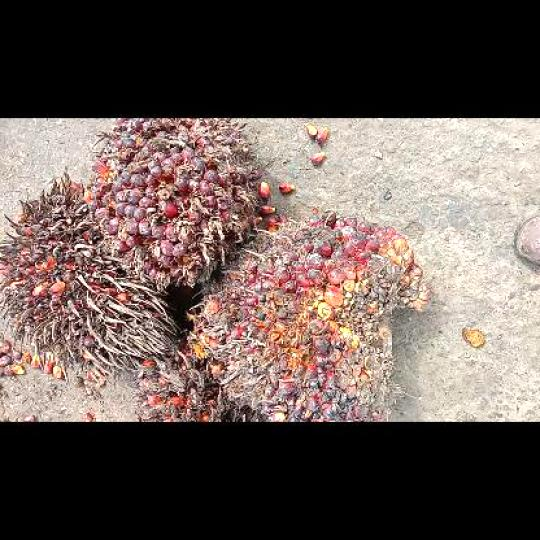masak: (186, 211, 432, 420), (88, 118, 260, 284)
terlalu masak: (0, 167, 179, 391), (128, 342, 261, 420)
